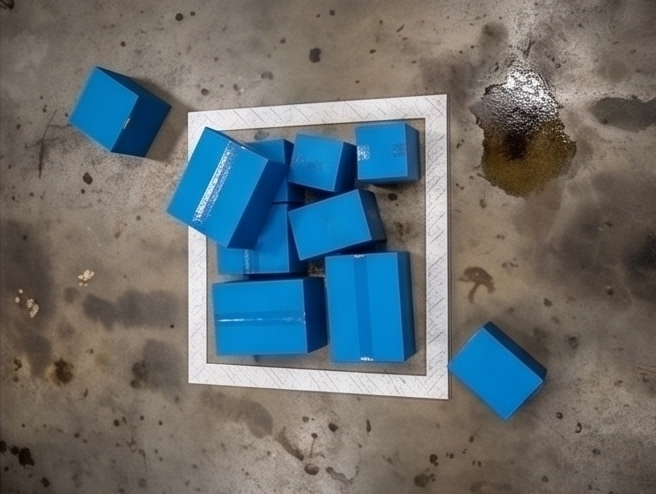blue_box: (367, 243, 492, 368), (106, 75, 213, 175), (239, 131, 332, 243), (485, 338, 589, 427), (327, 141, 442, 218), (269, 234, 368, 305), (347, 220, 438, 292), (298, 301, 369, 362), (238, 310, 301, 372), (350, 292, 410, 354)
container_box: (206, 95, 470, 401)
